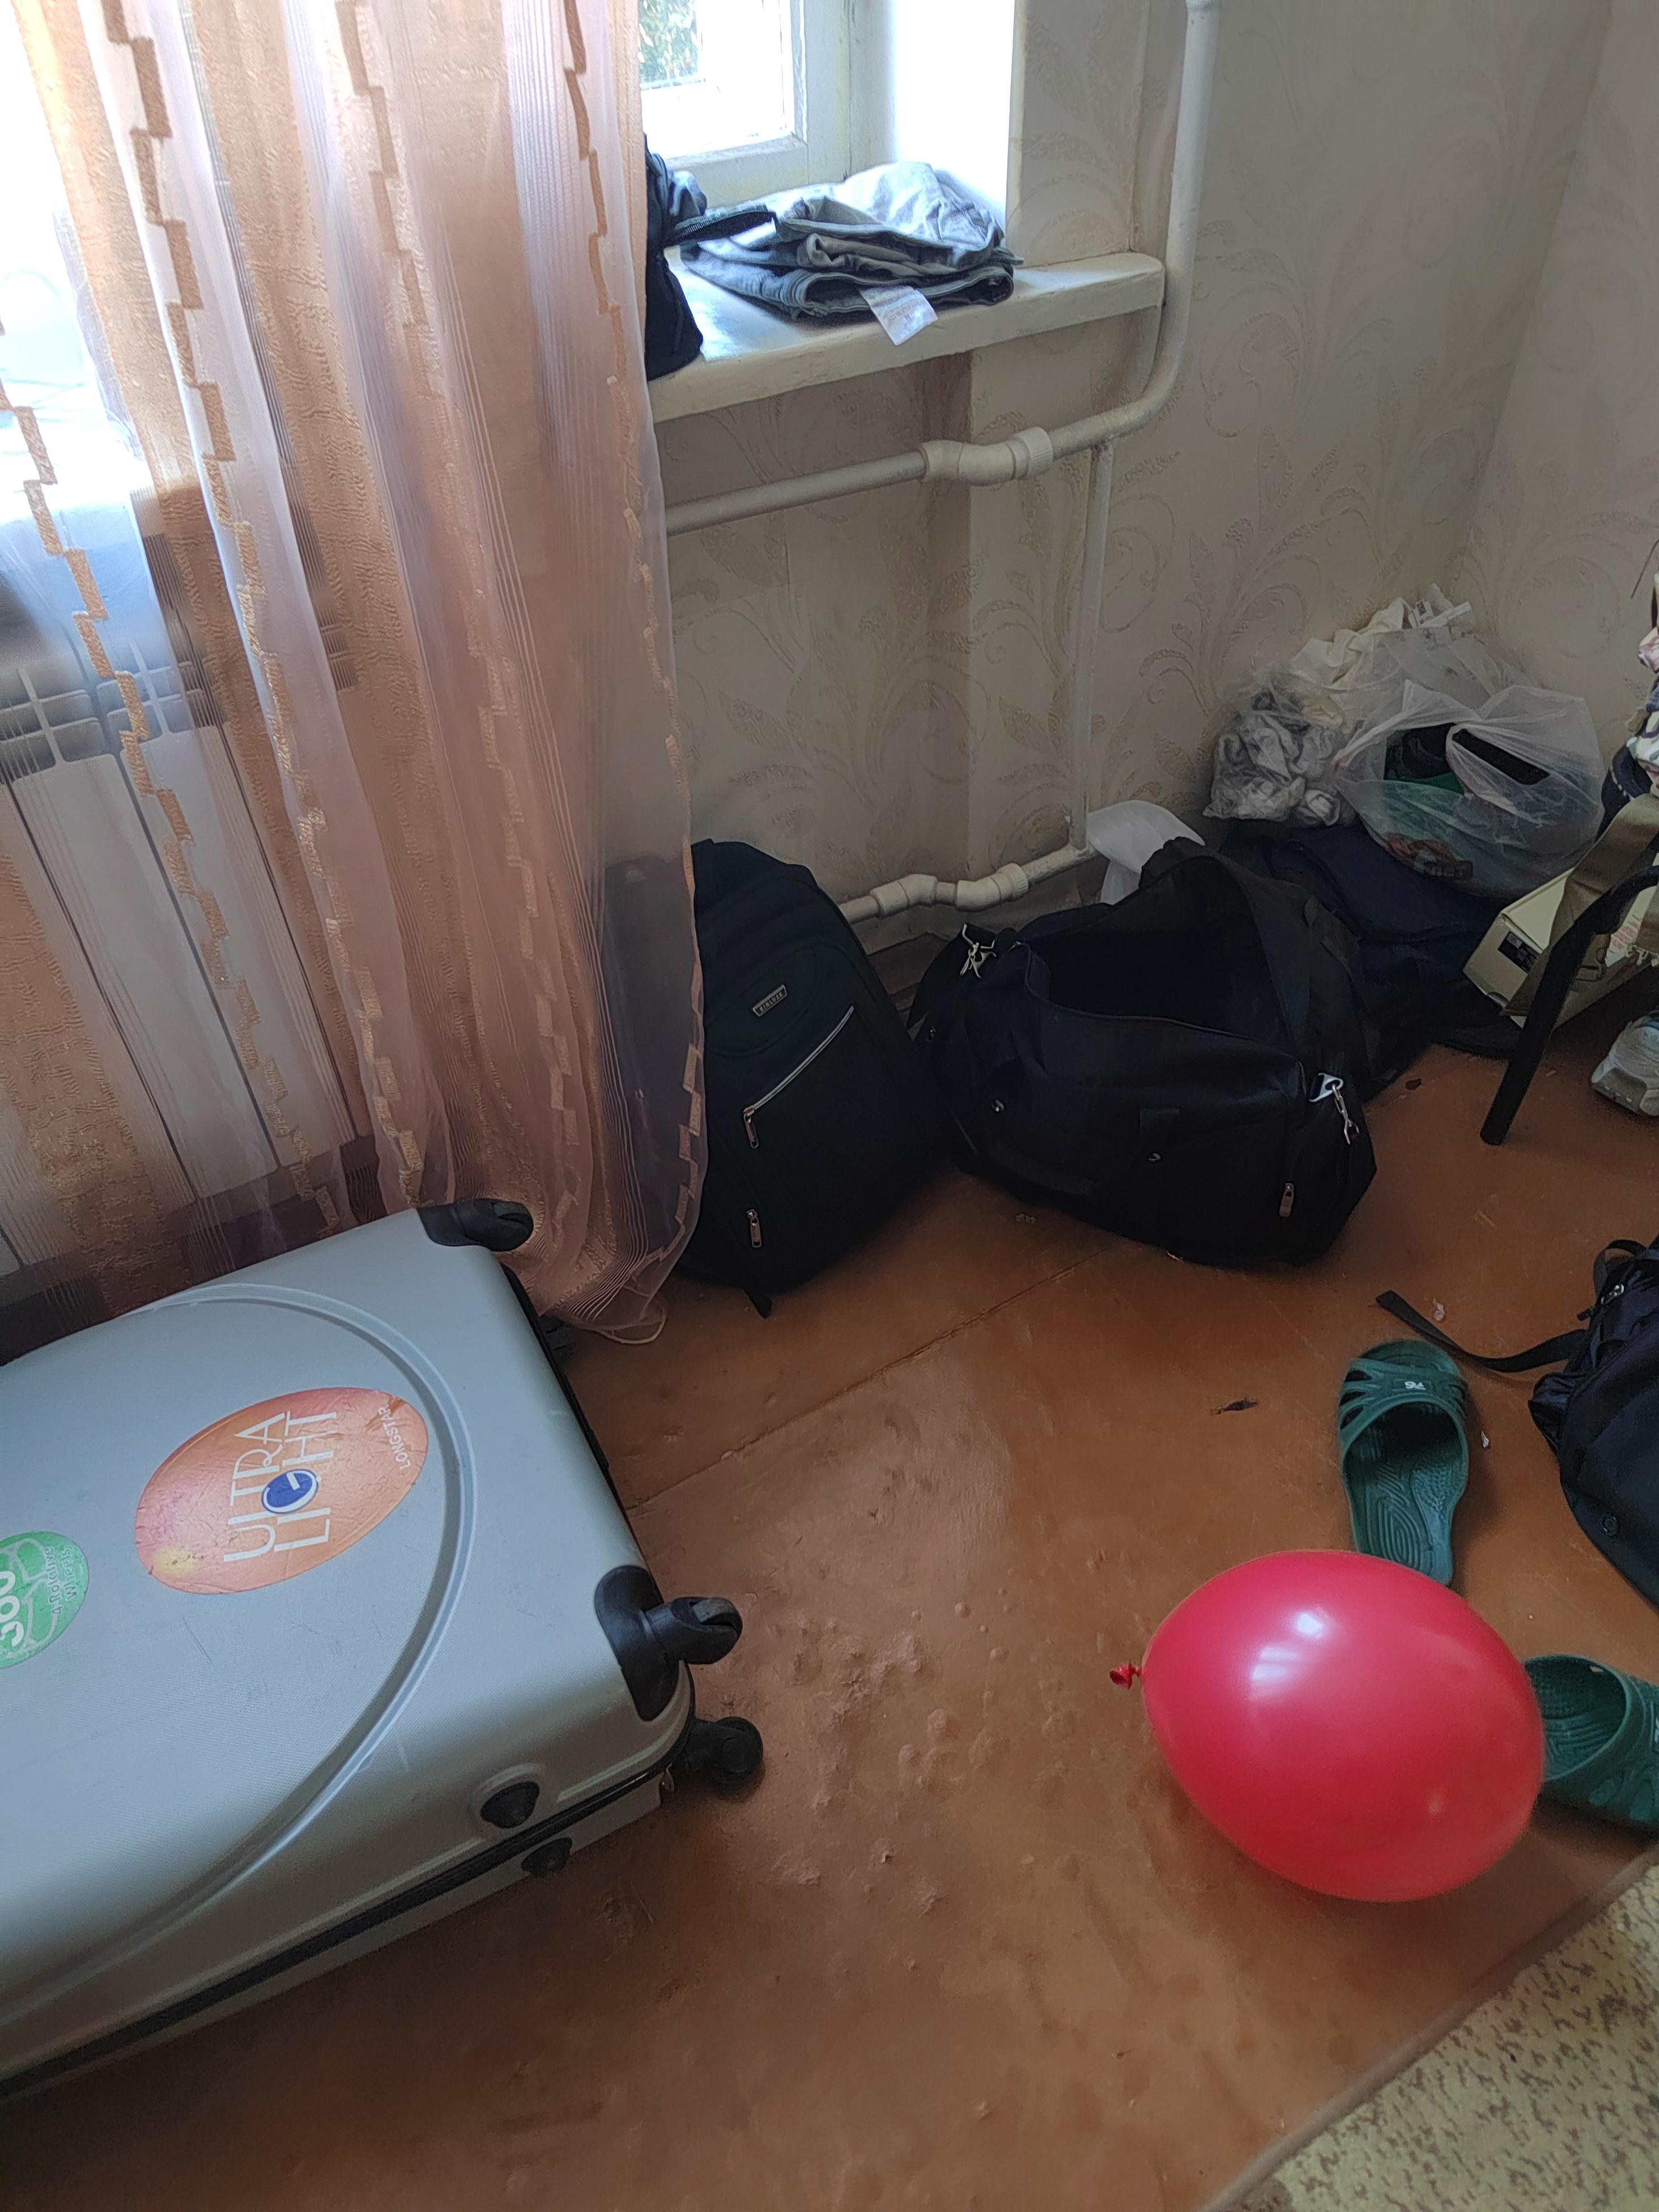red: (1094, 1531, 1547, 1919)
